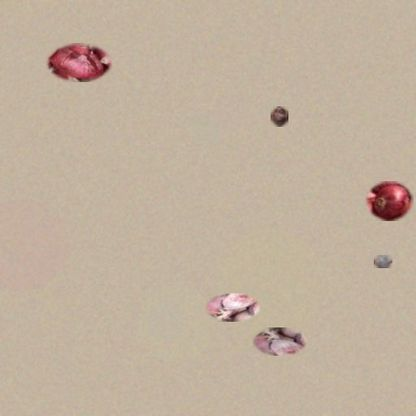healthy: (46, 43, 112, 82), (366, 181, 414, 221)
rotten: (271, 106, 288, 127), (374, 255, 392, 268)
sprouted: (205, 293, 260, 322), (253, 327, 307, 356)
